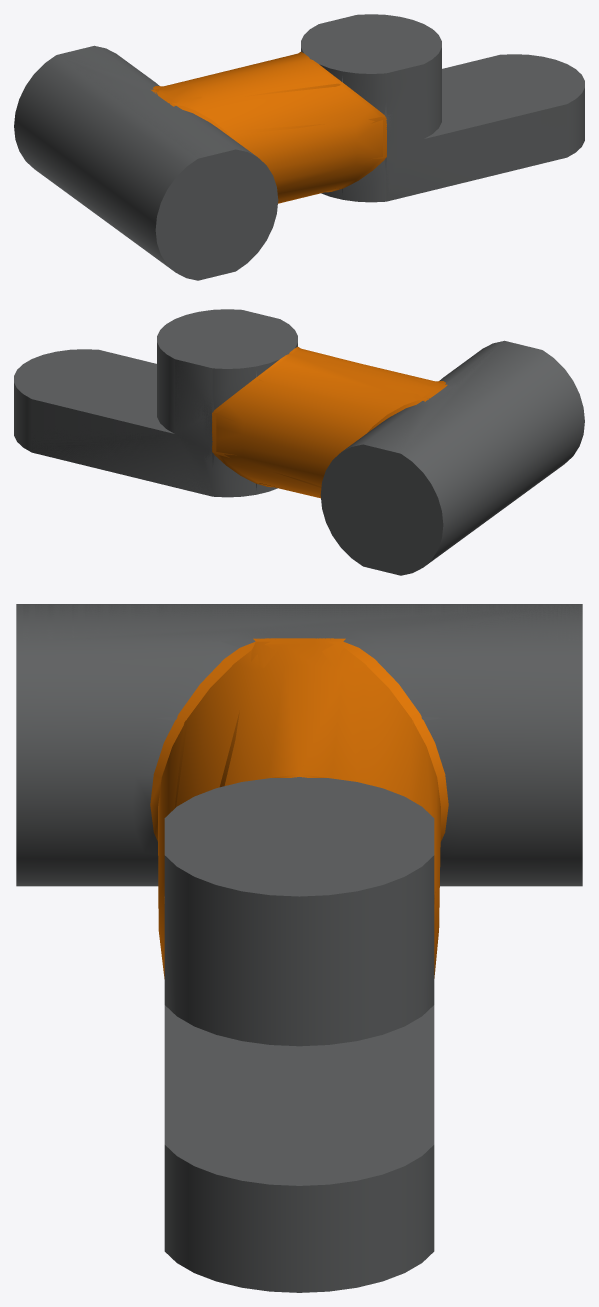
3 views of the same model, one above another, from view 1: azimuth 30°, elevation 25°; view 2: azimuth 150°, elevation 25°; view 3: azimuth 270°, elevation 25° (orthographic). The views are drawn at different scales.
Parts seen in each view (by area): view 1: j1_LOD0, j1_col; view 2: j1_LOD0, j1_col; view 3: j1_LOD0, j1_col.
Boxes of the visible parts, x1,y1,x2,y2 form: j1_LOD0: (14,14,584,280); j1_col: (57,15,581,279); j1_LOD0: (14,309,584,575); j1_col: (16,310,536,574); j1_LOD0: (16,604,582,1292); j1_col: (16,604,582,1185).
Size of what is drawn, in the model's own units: 48.04 by 12 by 24.
